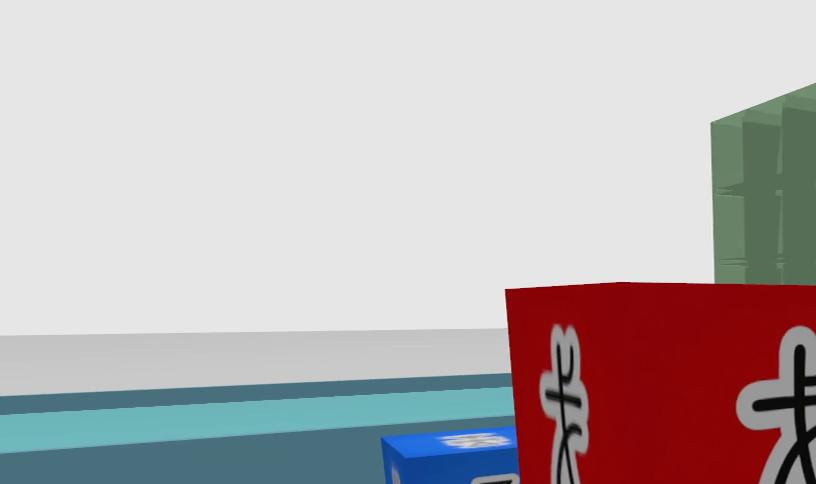KFS_FAKE: (506, 282, 816, 484), (736, 326, 816, 484), (539, 325, 587, 484)
KFS_REAL: (382, 426, 519, 484), (470, 474, 517, 484)
